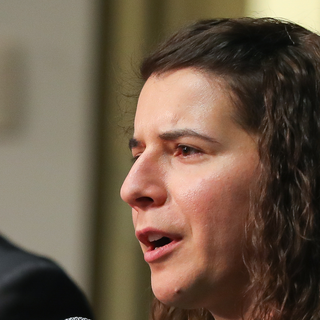eye: (166, 139, 209, 164)
